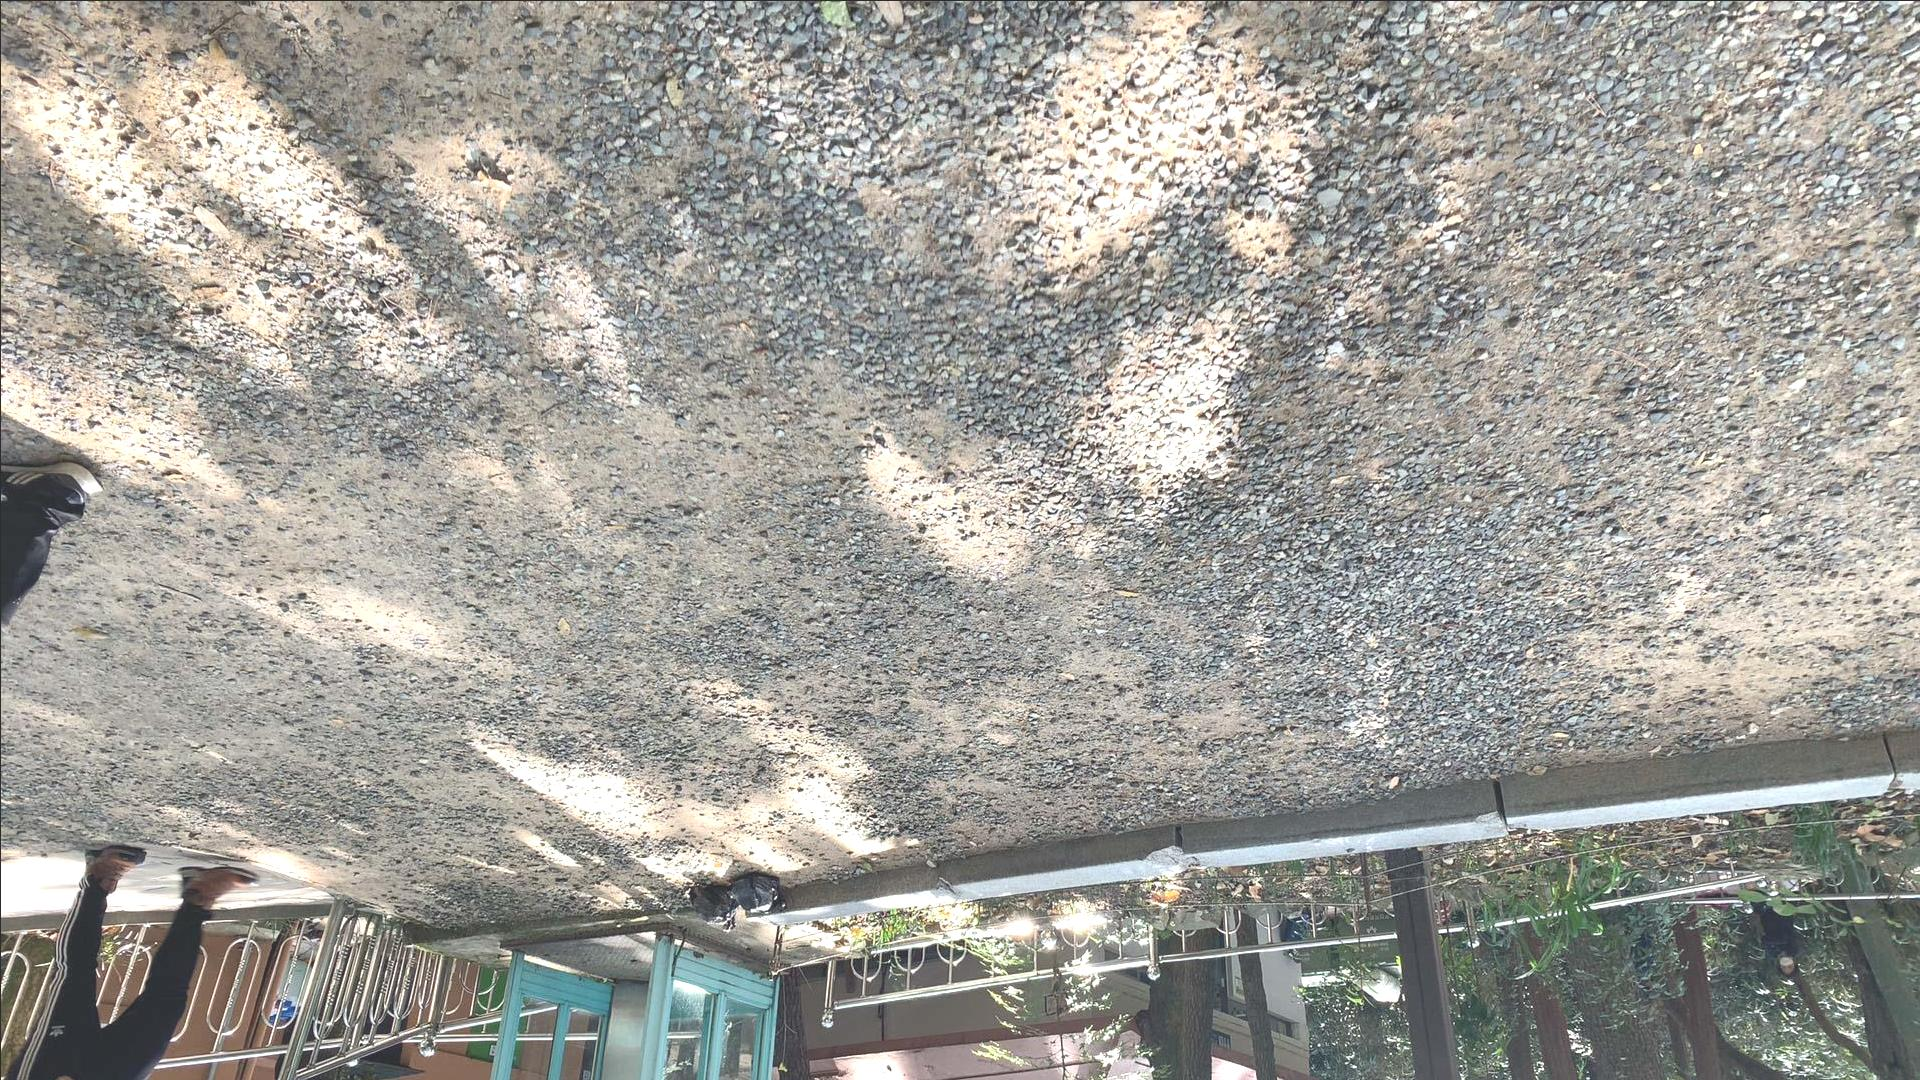black_bag: (725, 872, 793, 918), (686, 881, 741, 934)
